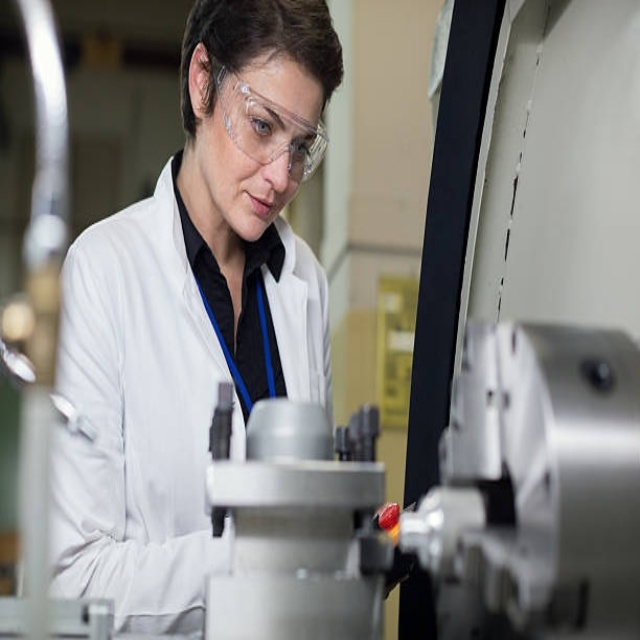Gafas: (215, 60, 330, 183)
Sin_mascara: (236, 185, 275, 235)
